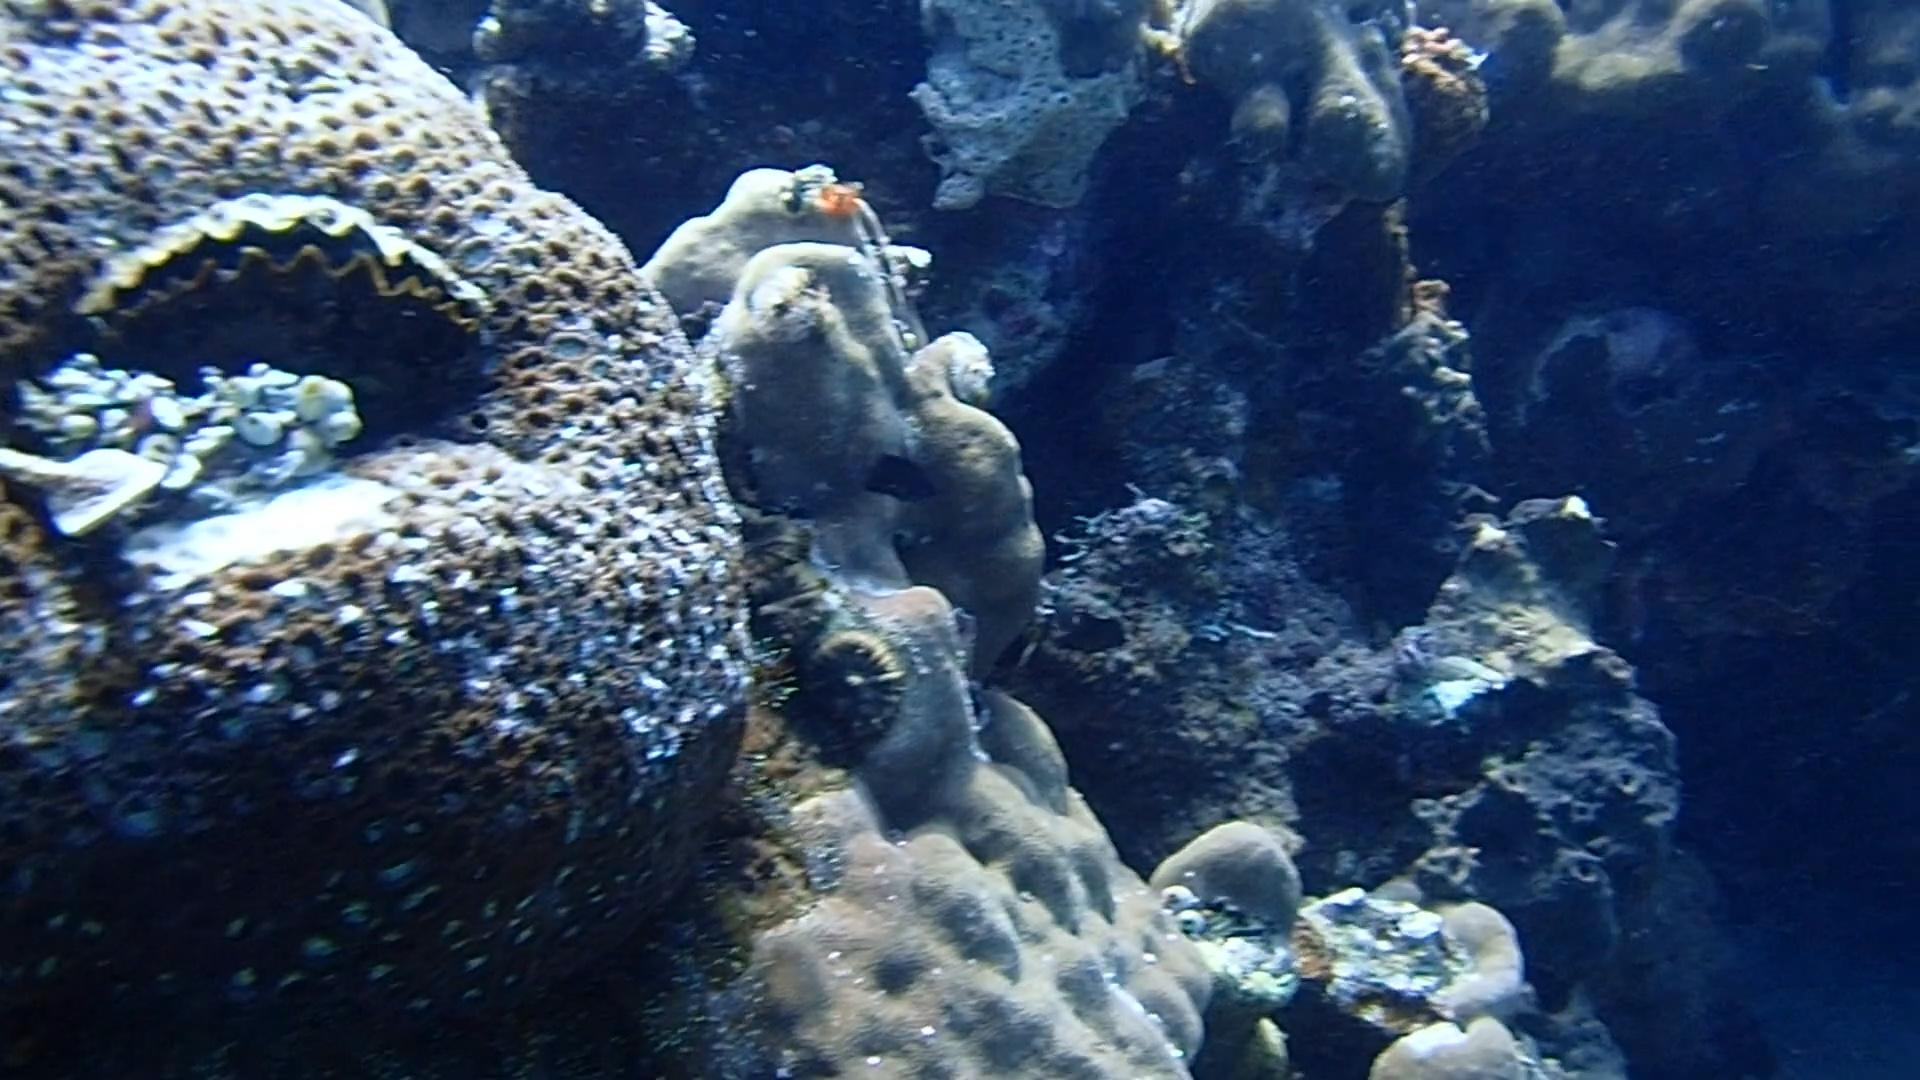Dark Fish: (1033, 600, 1142, 665), (857, 444, 945, 514)
